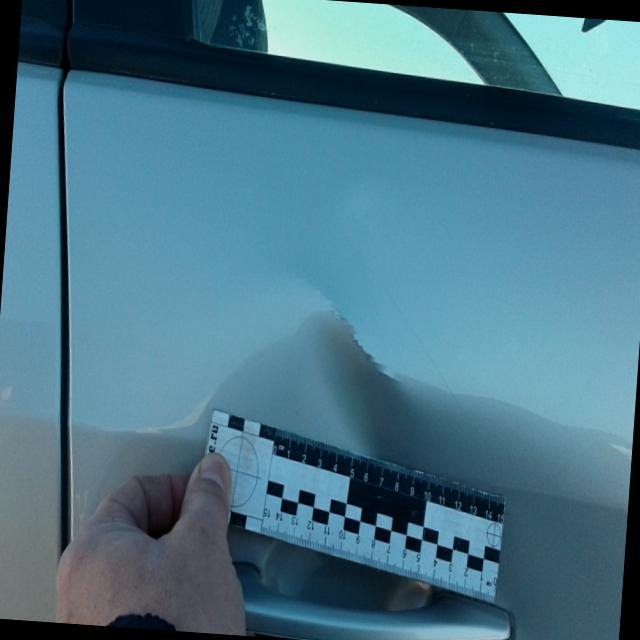Cabossage: (215, 302, 433, 457)
Rayure: (325, 301, 407, 393)
